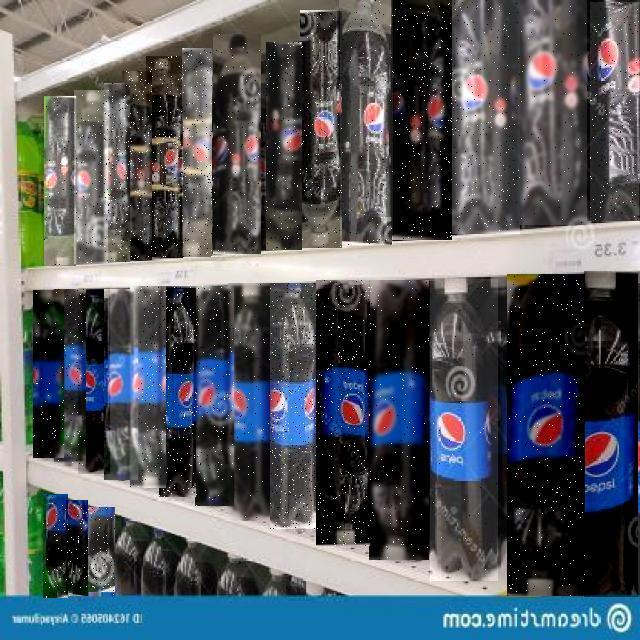Drinks: (507, 275, 585, 597), (430, 279, 498, 581), (585, 271, 639, 597), (369, 280, 429, 560), (452, 0, 520, 234), (519, 0, 587, 225), (316, 280, 370, 546), (394, 0, 452, 240), (340, 0, 396, 245), (270, 284, 316, 532), (590, 3, 639, 223), (213, 34, 261, 254), (300, 10, 342, 248), (228, 283, 270, 520), (195, 286, 234, 506), (159, 286, 196, 497), (266, 42, 302, 250), (146, 57, 183, 259), (131, 287, 167, 489), (104, 289, 138, 480), (182, 48, 212, 257), (78, 288, 110, 474), (74, 90, 108, 264), (122, 71, 152, 260), (54, 290, 86, 466), (44, 96, 76, 266), (33, 291, 64, 459), (104, 83, 130, 262), (43, 494, 68, 598), (87, 508, 115, 596), (67, 501, 89, 597)
